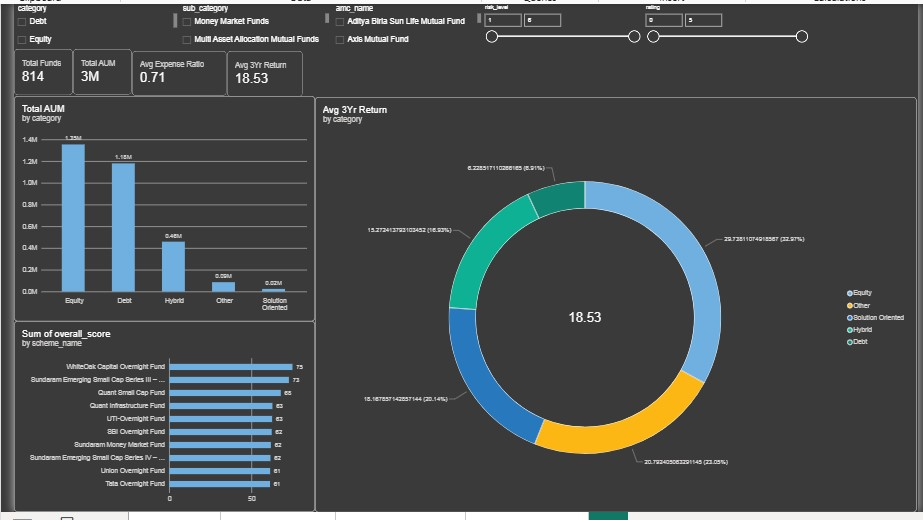

Layout of this report page (visuals, bound fields, positions):
{"tool":"powerbi","page":{"name":"Overview","canvas":[1920,1080],"ordinal":0},"visuals":[{"type":"cardVisual","fields":{"Data":["Cleaned_Data.Total Funds"]},"box":[0,95.7,126,98.3],"z":0},{"type":"cardVisual","fields":{"Data":["Cleaned_Data.Total AUM"]},"box":[125.5,95.7,125.4,97.8],"z":1000},{"type":"cardVisual","fields":{"Data":["Cleaned_Data.Avg 3Yr Return"]},"box":[453.2,100,161.7,97.9],"z":2000},{"type":"cardVisual","fields":{"Data":["Cleaned_Data.Avg Expense Ratio"]},"box":[251.1,100,202,95.7],"z":3000},{"type":"clusteredColumnChart","fields":{"Category":["Cleaned_Data.category"],"Y":["Cleaned_Data.Total AUM"]},"box":[0,195.7,640.4,478.7],"z":4000},{"type":"donutChart","fields":{"Category":["Cleaned_Data.category"],"Y":["Cleaned_Data.Avg 3Yr Return"]},"box":[640.4,197.9,1278.7,883],"z":5000},{"type":"clusteredBarChart","fields":{"Category":["Top30.scheme_name"],"Y":["Sum(Top30.overall_score)"]},"box":[0,674.5,640,406],"z":6000},{"type":"slicer","fields":{"Values":["Cleaned_Data.sub_category"]},"box":[351.1,0,319.1,95.7],"z":7000},{"type":"slicer","fields":{"Values":["Cleaned_Data.category"]},"box":[0,0,346.8,95.7],"z":8000},{"type":"slicer","fields":{"Values":["Cleaned_Data.amc_name"]},"box":[676.6,0,317,95.7],"z":9000},{"type":"slicer","fields":{"Values":["Cleaned_Data.risk_level"]},"box":[993.6,0,342.6,100],"z":10000},{"type":"slicer","fields":{"Values":["Cleaned_Data.rating"]},"box":[1336.2,0,355.3,100],"z":11000}]}

Visuals, with their boxes in screenshot pixels (x1, y1, x2, y2), scaled from the page's 1920x1080 canvas onto the 923x520 screenshot:
cardVisual - Cleaned_Data.Total Funds: box=[0, 46, 61, 93]
cardVisual - Cleaned_Data.Total AUM: box=[60, 46, 121, 93]
cardVisual - Cleaned_Data.Avg 3Yr Return: box=[218, 48, 296, 95]
cardVisual - Cleaned_Data.Avg Expense Ratio: box=[121, 48, 218, 94]
clusteredColumnChart - Cleaned_Data.category x Cleaned_Data.Total AUM: box=[0, 94, 308, 325]
donutChart - Cleaned_Data.category x Cleaned_Data.Avg 3Yr Return: box=[308, 95, 922, 519]
clusteredBarChart - Top30.scheme_name x Sum(Top30.overall_score): box=[0, 325, 308, 519]
slicer - Cleaned_Data.sub_category: box=[169, 0, 322, 46]
slicer - Cleaned_Data.category: box=[0, 0, 167, 46]
slicer - Cleaned_Data.amc_name: box=[325, 0, 478, 46]
slicer - Cleaned_Data.risk_level: box=[478, 0, 642, 48]
slicer - Cleaned_Data.rating: box=[642, 0, 813, 48]
